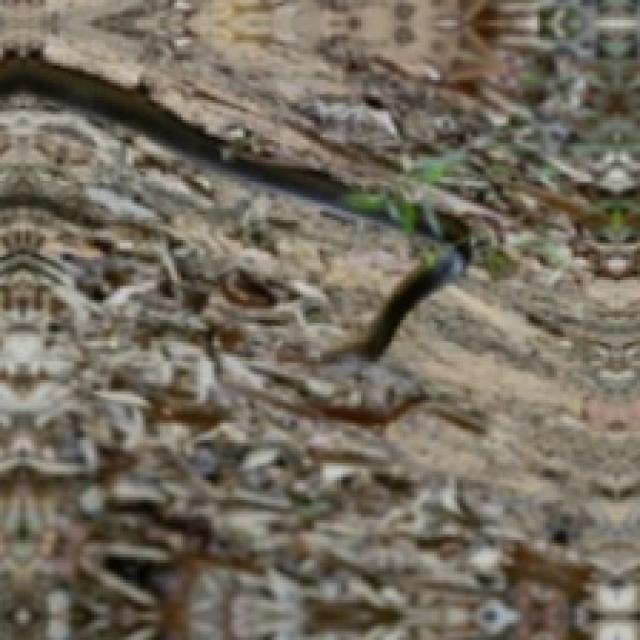king cobra: (0, 91, 517, 637)
